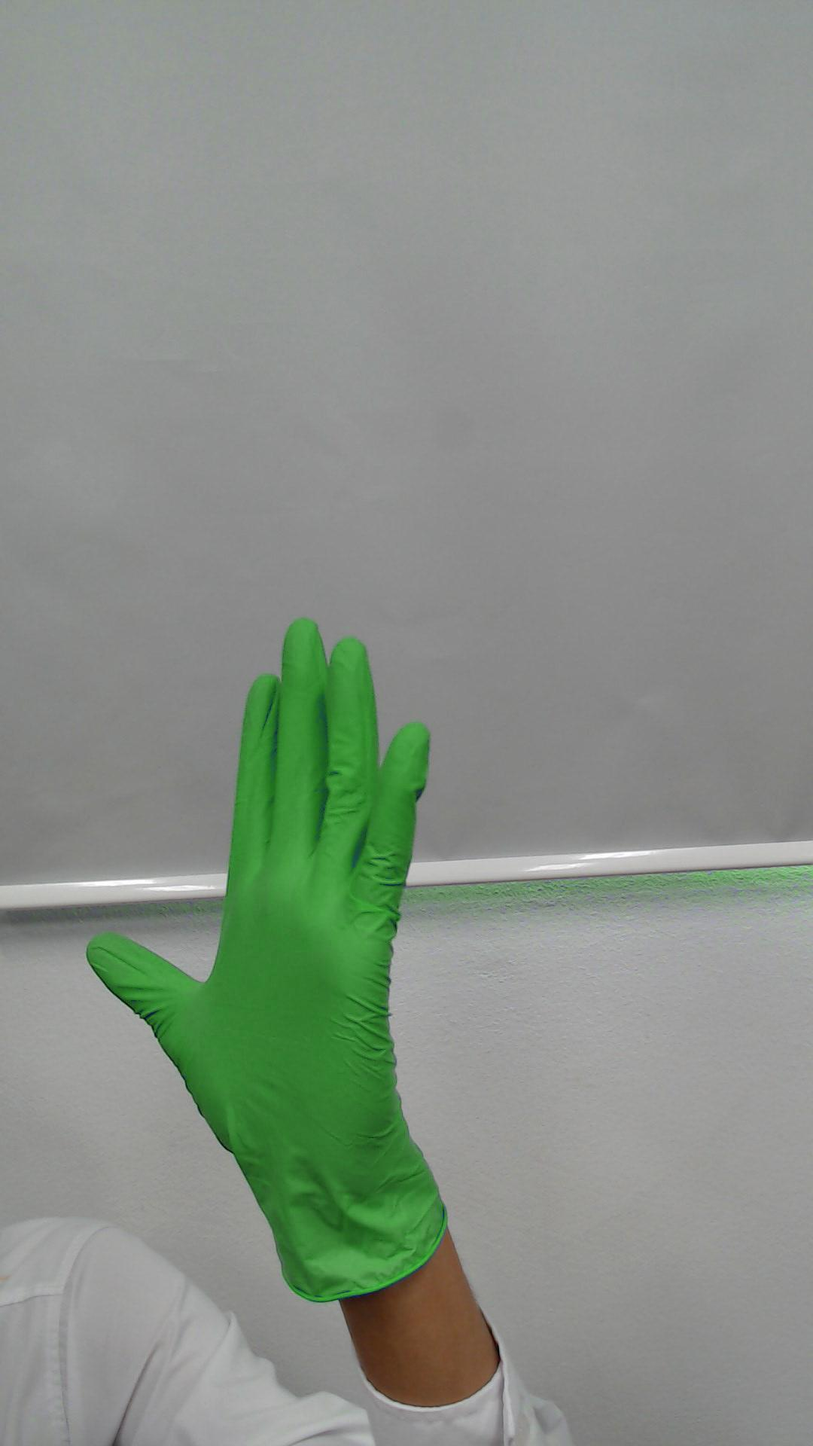gloves: (80, 602, 445, 1160)
